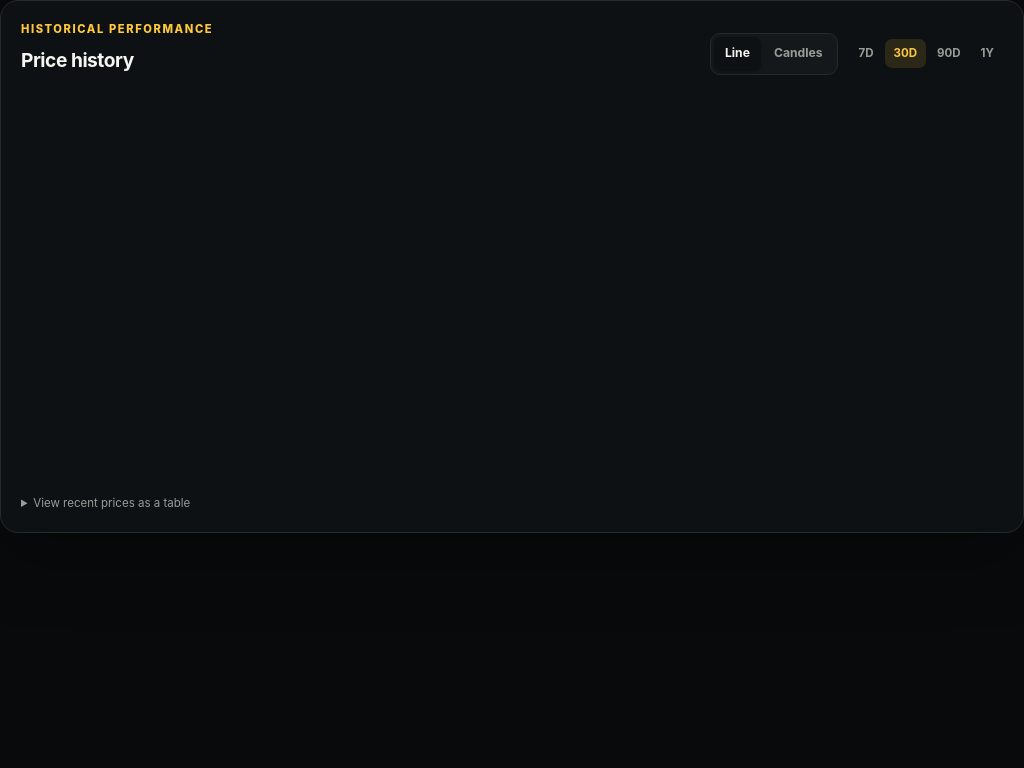
Test: ResearchChart accessibility › keeps the accessible data table in sync with the selected chart type
Click the button "Candles".
click(798, 54)  # box [763,37,834,71]
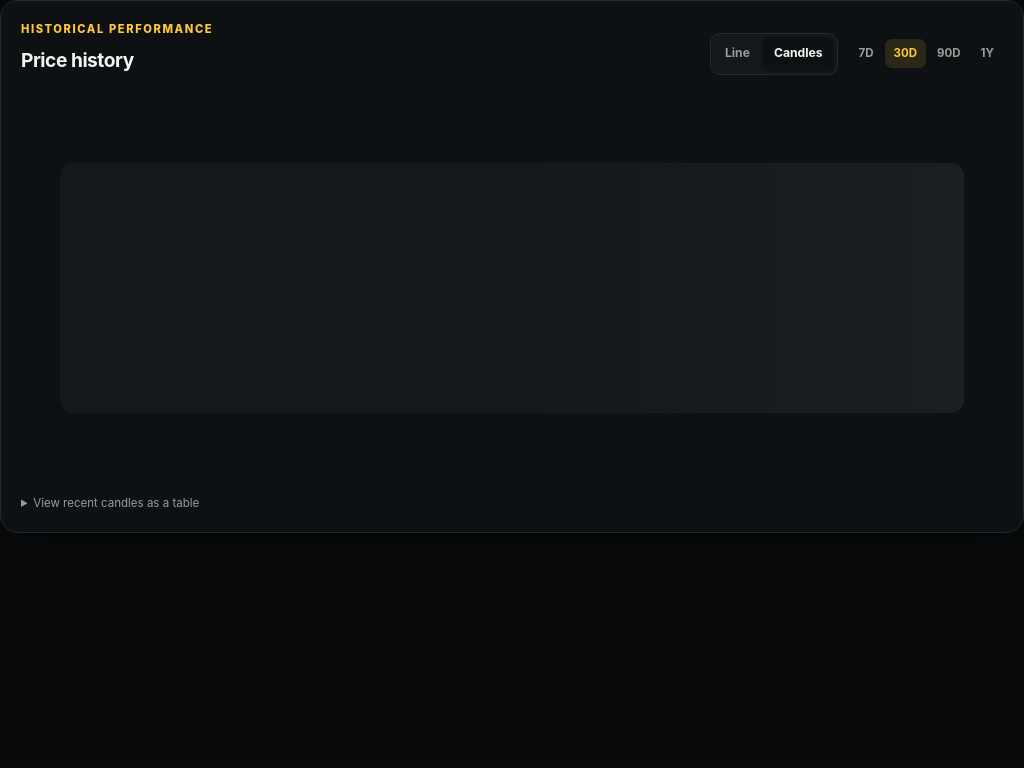
Result: the heading "View recent candles as a table" is shown
Click the heading "View recent candles as a table".
click(110, 503)  # box [21,495,199,512]
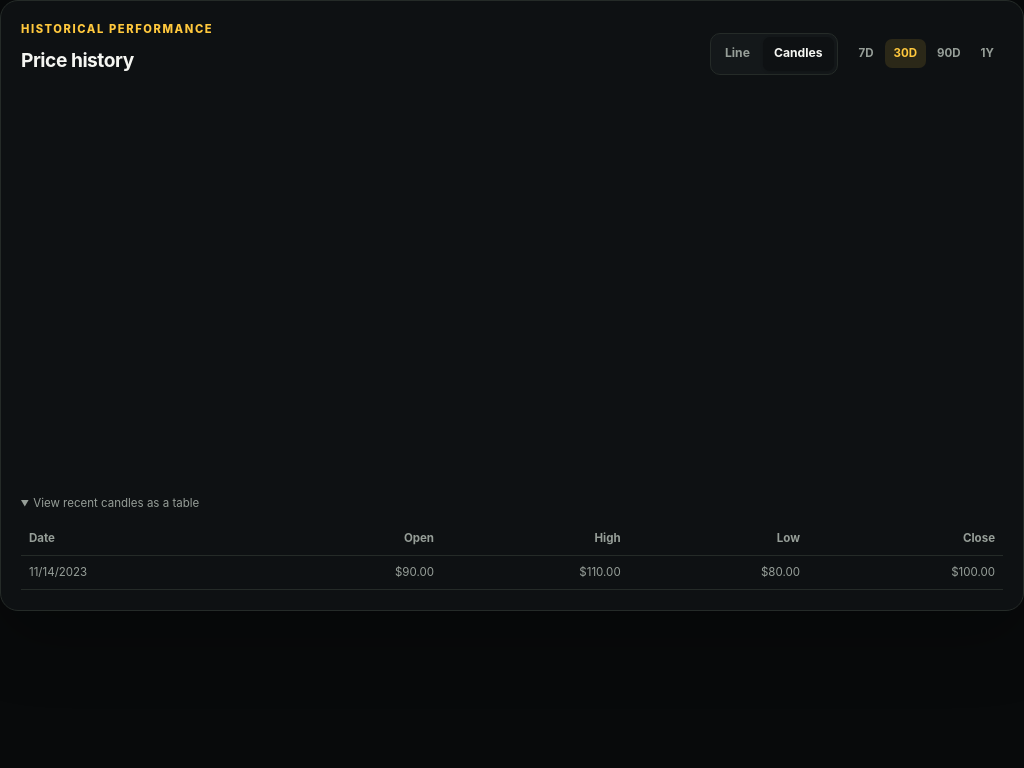
Result: the column heading "Open" is shown at [263,522,442,556]
Result: the cell "$90.00" is shown at [263,556,442,590]
